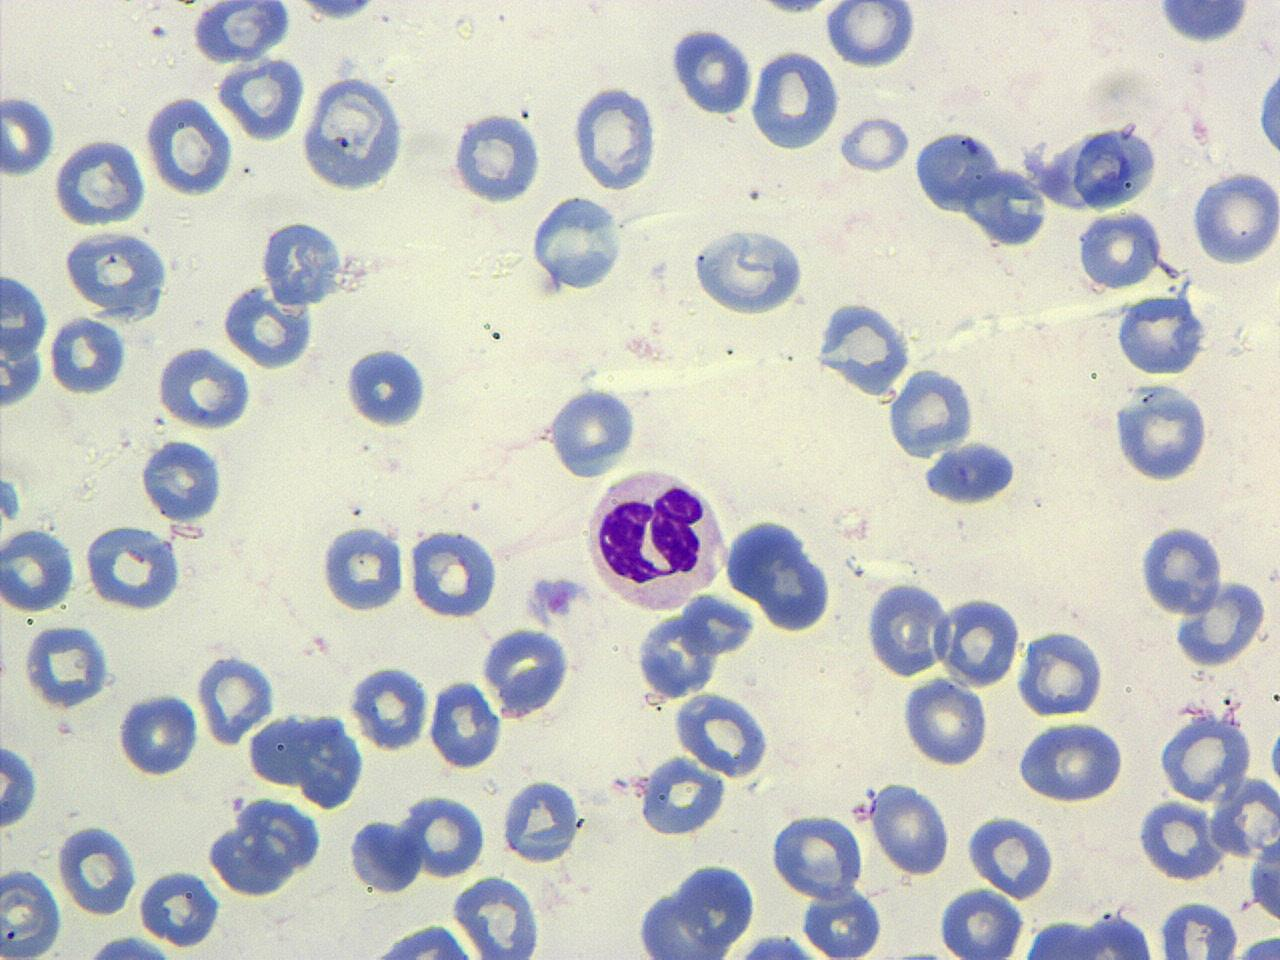Platelets: (547, 383, 644, 478), (342, 343, 430, 431), (0, 91, 58, 177), (528, 573, 590, 623), (755, 0, 826, 17), (0, 476, 22, 524), (1267, 723, 1280, 796), (1188, 113, 1210, 140)
RBC: (694, 221, 810, 319), (62, 228, 172, 322), (569, 80, 661, 192), (748, 46, 842, 152), (144, 92, 237, 197), (1014, 716, 1124, 804), (83, 520, 186, 612), (50, 133, 149, 228), (672, 690, 772, 782), (544, 384, 638, 480), (405, 524, 500, 618), (154, 344, 254, 433), (886, 362, 976, 460), (1135, 520, 1225, 618), (1156, 712, 1252, 803), (1190, 166, 1278, 265), (220, 281, 316, 371), (768, 810, 864, 900), (864, 576, 948, 678), (1013, 628, 1107, 718), (23, 620, 113, 712), (450, 872, 544, 960), (215, 54, 307, 143), (900, 675, 988, 768), (319, 520, 406, 614), (667, 22, 752, 118), (55, 820, 139, 916), (194, 650, 277, 747), (965, 812, 1055, 900), (341, 343, 432, 430), (936, 596, 1021, 689), (1135, 796, 1225, 883), (1074, 205, 1166, 290), (965, 161, 1051, 250), (347, 662, 431, 752), (0, 266, 50, 416), (116, 690, 199, 780), (872, 780, 949, 876), (406, 791, 488, 880), (426, 676, 502, 770), (136, 867, 222, 950), (0, 524, 76, 616), (797, 882, 886, 958), (47, 314, 126, 398), (821, 1, 919, 68), (934, 886, 1022, 960), (347, 815, 427, 894), (0, 862, 64, 958), (1156, 896, 1240, 960), (0, 89, 57, 179), (246, 714, 314, 788), (834, 112, 910, 175), (0, 736, 44, 834)
WBC: (583, 464, 732, 616), (630, 590, 757, 706), (722, 512, 836, 634), (630, 856, 763, 960), (299, 72, 411, 195), (204, 792, 326, 901), (694, 222, 810, 319), (62, 226, 174, 325), (1110, 378, 1212, 485), (813, 296, 916, 398), (527, 192, 628, 296), (569, 81, 661, 193), (748, 45, 842, 154), (1169, 579, 1275, 672), (478, 624, 576, 724), (81, 520, 186, 613), (448, 108, 545, 207), (50, 133, 150, 228), (1062, 118, 1162, 212), (1135, 519, 1227, 619), (155, 344, 255, 435), (886, 364, 978, 461), (448, 870, 549, 958), (1156, 710, 1250, 804), (220, 283, 318, 372), (1114, 288, 1210, 378), (864, 577, 946, 681), (22, 620, 113, 713), (910, 124, 1000, 216), (215, 55, 308, 144), (0, 261, 52, 418), (637, 751, 729, 839), (343, 340, 430, 432), (1006, 909, 1166, 959), (499, 775, 584, 868), (138, 436, 225, 526), (259, 218, 346, 308), (1077, 208, 1167, 293), (137, 864, 224, 950), (965, 161, 1049, 250), (428, 676, 504, 772), (920, 438, 1020, 510), (190, 1, 295, 66), (347, 814, 426, 896), (800, 882, 886, 957), (247, 708, 314, 796), (340, 920, 493, 958), (1154, 1, 1254, 45), (0, 740, 42, 834), (67, 930, 186, 960), (1253, 51, 1280, 168)
